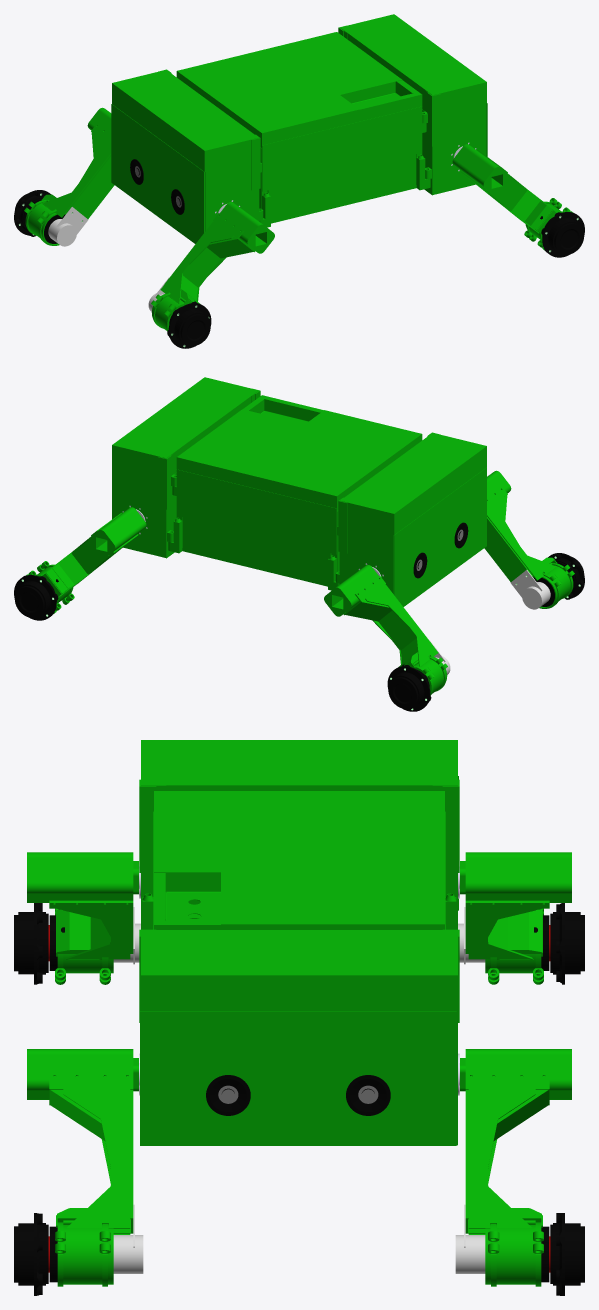
The model's file is Body and  legs.fbx.
The picture shows the model from 3 angles, top to bottom: view 1: azimuth 30°, elevation 25°; view 2: azimuth 150°, elevation 25°; view 3: azimuth 270°, elevation 25°; orthographic projection. The views are drawn at different scales.
Parts seen in each view (by area): view 1: Body and legs; view 2: Body and legs; view 3: Body and legs.
Part boxes in pixels (x1,y1,x2,y2): Body and legs: (14, 14, 584, 348); Body and legs: (14, 377, 584, 711); Body and legs: (14, 740, 584, 1295).
Size of the model in its own units: 146 by 54.93 by 102.
